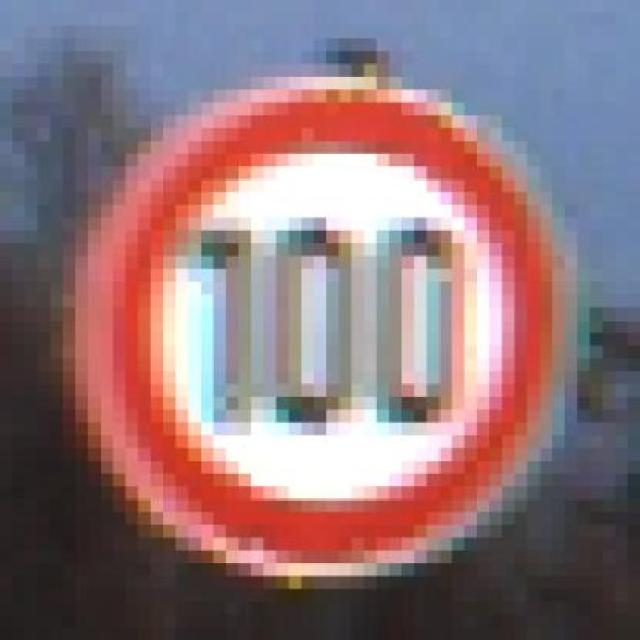forb_speed_over_100: (93, 82, 562, 573)
